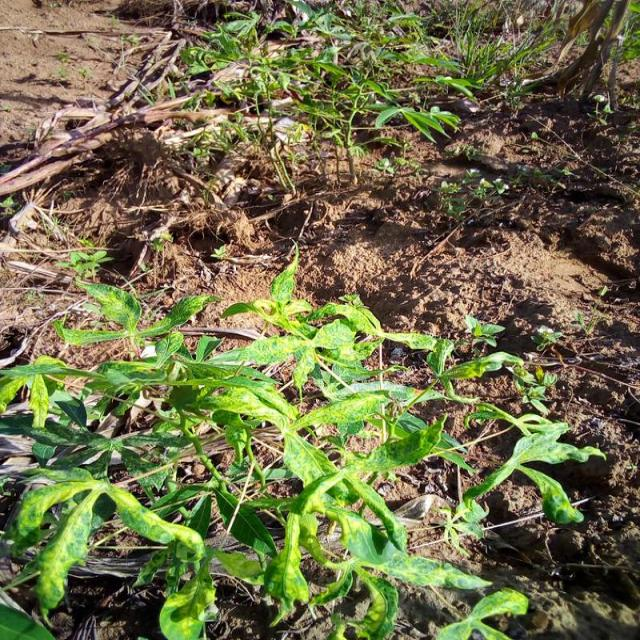cassava leaf: (1, 243, 606, 637)
